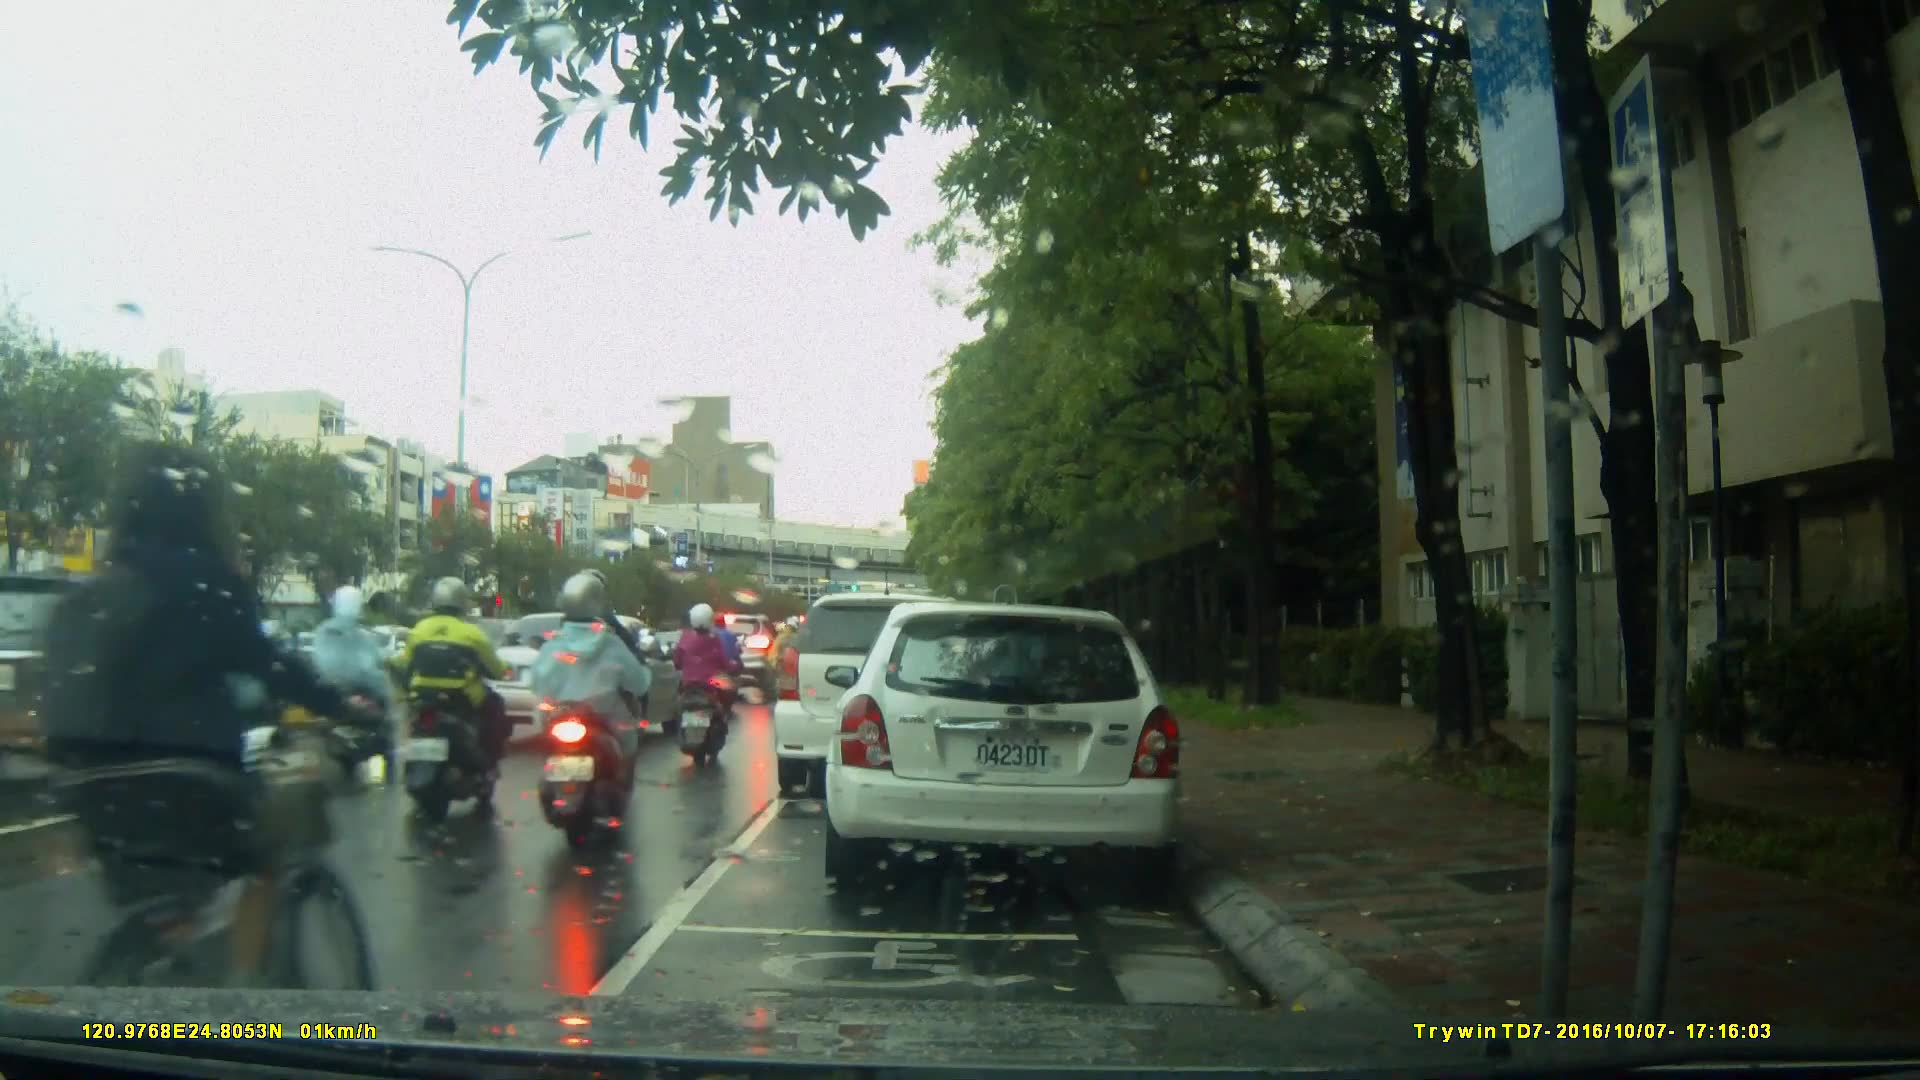rider: (75, 433, 373, 1063), (536, 569, 642, 854), (403, 574, 522, 816), (310, 579, 411, 778), (560, 571, 647, 794), (669, 605, 734, 775), (704, 610, 741, 699)
vehicle: (822, 604, 1188, 883), (774, 595, 995, 802), (481, 611, 686, 745), (685, 614, 791, 703)
